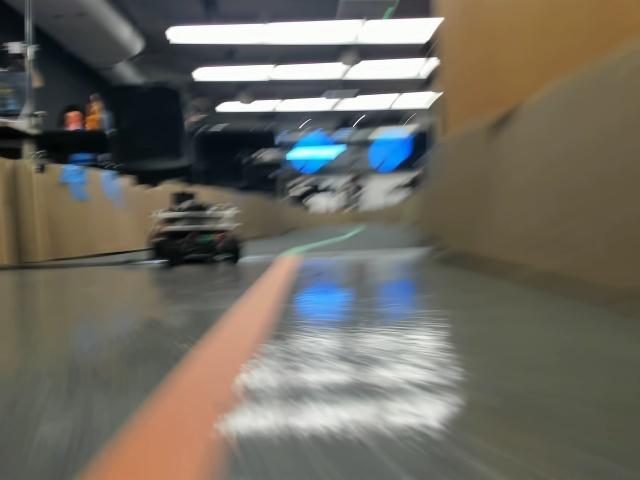Car: (145, 192, 239, 267)
